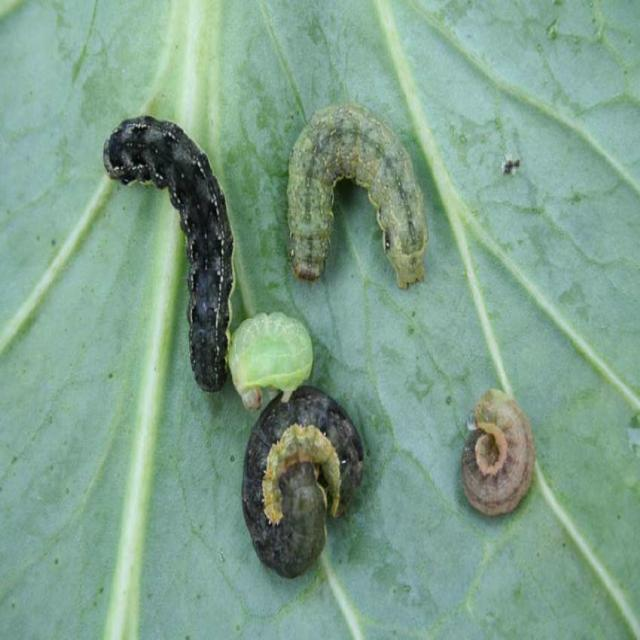armyworm: (109, 108, 232, 392), (241, 392, 371, 585), (280, 114, 420, 290), (227, 307, 321, 412), (463, 390, 538, 517)
